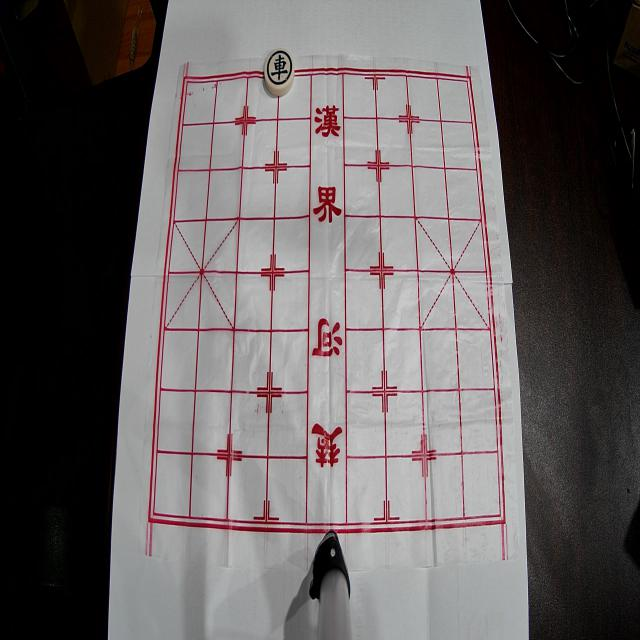black-chariot: (264, 48, 294, 96)
